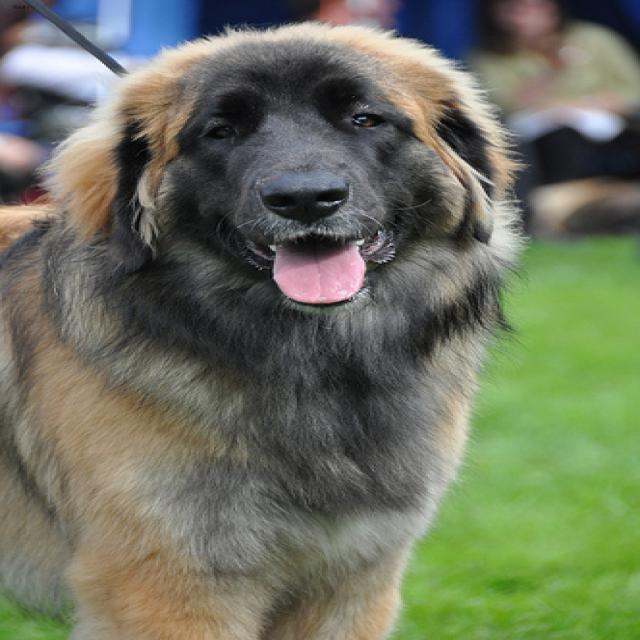dog-leonberger: (2, 10, 540, 637)
